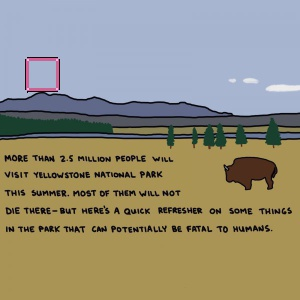square: (24, 56, 61, 93)
